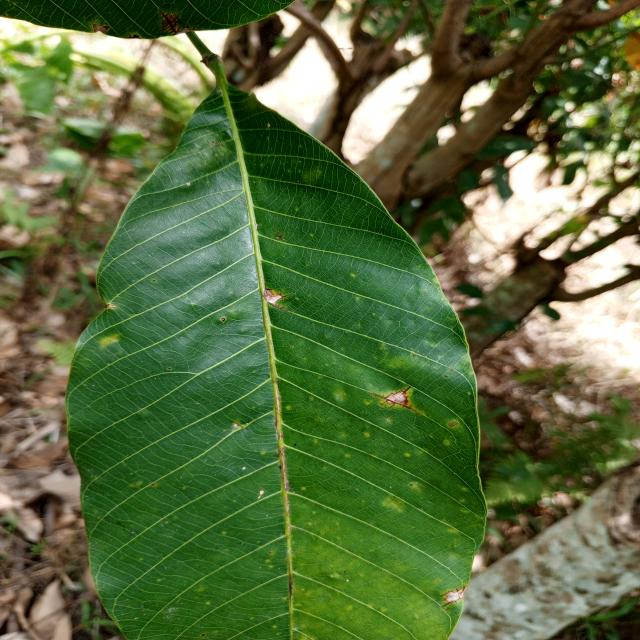Colletotrichum: (222, 318, 226, 322)
Corynespora: (370, 387, 420, 414), (263, 286, 293, 310)
